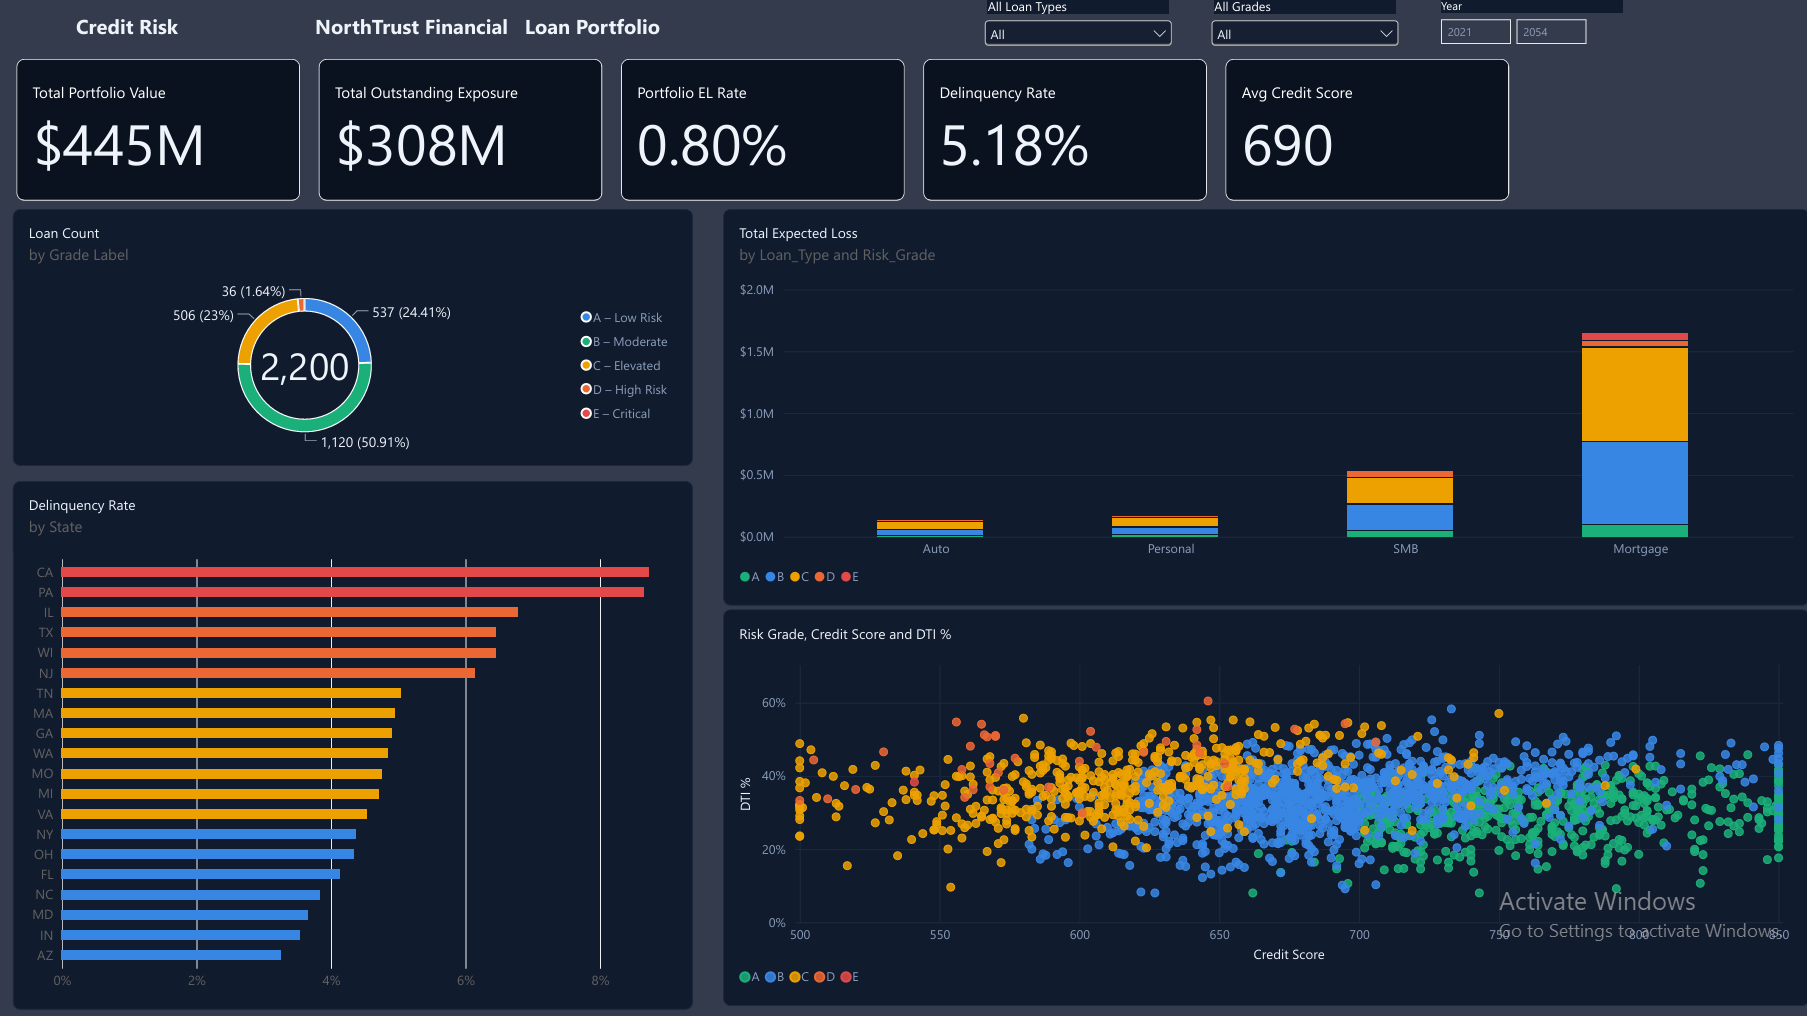

This screenshot's page, from the dashboard's own definition file:
{"tool":"powerbi","page":{"name":"Loan porfrolio","canvas":[1920,1080],"ordinal":0},"visuals":[{"type":"cardVisual","fields":{"Data":["9_loan_portfolio_scored.Total Portfolio Value"]},"box":[20,65,300,150],"z":0},{"type":"cardVisual","fields":{"Data":["9_loan_portfolio_scored.Total Outstanding Exposure"]},"box":[340,65,300,150],"z":1000},{"type":"cardVisual","fields":{"Data":["9_loan_portfolio_scored.Portfolio EL Rate"]},"box":[660,65,300,150],"z":2000},{"type":"cardVisual","fields":{"Data":["9_loan_portfolio_scored.Delinquency Rate"]},"box":[980,65,300,150],"z":3000},{"type":"cardVisual","fields":{"Data":["9_loan_portfolio_scored.Avg Credit Score"]},"box":[1300,65,300,150],"z":4000},{"type":"donutChart","fields":{"Category":["9_loan_portfolio_scored.Grade Label"],"Y":["9_loan_portfolio_scored.Loan Count"]},"box":[16,224,720,272],"z":5000},{"type":"columnChart","fields":{"Category":["9_loan_portfolio_scored.Loan_Type"],"Series":["9_loan_portfolio_scored.Risk_Grade"],"Y":["9_loan_portfolio_scored.Total Expected Loss"]},"box":[768,224,1150,420],"z":6000},{"type":"clusteredBarChart","fields":{"Category":["9_loan_portfolio_scored.State"],"Y":["9_loan_portfolio_scored.Delinquency Rate"]},"box":[16,512,720,560],"z":7000},{"type":"scatterChart","fields":{"Series":["9_loan_portfolio_scored.Risk_Grade"],"X":["9_loan_portfolio_scored.Credit_Score"],"Y":["9_loan_portfolio_scored.DTI_Pct"]},"box":[768,648,1150,420],"z":8000},{"type":"textbox","box":[336,16,432,48],"z":8001},{"type":"textbox","box":[16,16,240,48],"z":8002},{"type":"slicer","fields":{"Values":["9_loan_portfolio_scored.Loan_Type"]},"box":[1040,0,208,64],"z":8004},{"type":"slicer","fields":{"Values":["9_loan_portfolio_scored.Risk_Grade"]},"box":[1280,0,208,64],"z":8005},{"type":"slicer","fields":{"Values":["9_loan_portfolio_scored.Maturity_Date.Variation.Date Hierarchy.Year"]},"box":[1520,0,208,64],"z":8006}]}

Visuals, with their boxes in screenshot pixels (x1, y1, x2, y2), scaled from the page's 1920x1080 canvas onto the 1807x1016 screenshot:
cardVisual - 9_loan_portfolio_scored.Total Portfolio Value: (left=19, top=61, right=301, bottom=202)
cardVisual - 9_loan_portfolio_scored.Total Outstanding Exposure: (left=320, top=61, right=602, bottom=202)
cardVisual - 9_loan_portfolio_scored.Portfolio EL Rate: (left=621, top=61, right=904, bottom=202)
cardVisual - 9_loan_portfolio_scored.Delinquency Rate: (left=922, top=61, right=1205, bottom=202)
cardVisual - 9_loan_portfolio_scored.Avg Credit Score: (left=1223, top=61, right=1506, bottom=202)
donutChart - 9_loan_portfolio_scored.Grade Label x 9_loan_portfolio_scored.Loan Count: (left=15, top=211, right=693, bottom=467)
columnChart - 9_loan_portfolio_scored.Loan_Type x 9_loan_portfolio_scored.Risk_Grade: (left=723, top=211, right=1805, bottom=606)
clusteredBarChart - 9_loan_portfolio_scored.State x 9_loan_portfolio_scored.Delinquency Rate: (left=15, top=482, right=693, bottom=1008)
scatterChart - 9_loan_portfolio_scored.Risk_Grade x 9_loan_portfolio_scored.Credit_Score: (left=723, top=610, right=1805, bottom=1005)
textbox: (left=316, top=15, right=723, bottom=60)
textbox: (left=15, top=15, right=241, bottom=60)
slicer - 9_loan_portfolio_scored.Loan_Type: (left=979, top=0, right=1175, bottom=60)
slicer - 9_loan_portfolio_scored.Risk_Grade: (left=1205, top=0, right=1400, bottom=60)
slicer - 9_loan_portfolio_scored.Maturity_Date.Variation.Date Hierarchy.Year: (left=1431, top=0, right=1626, bottom=60)
